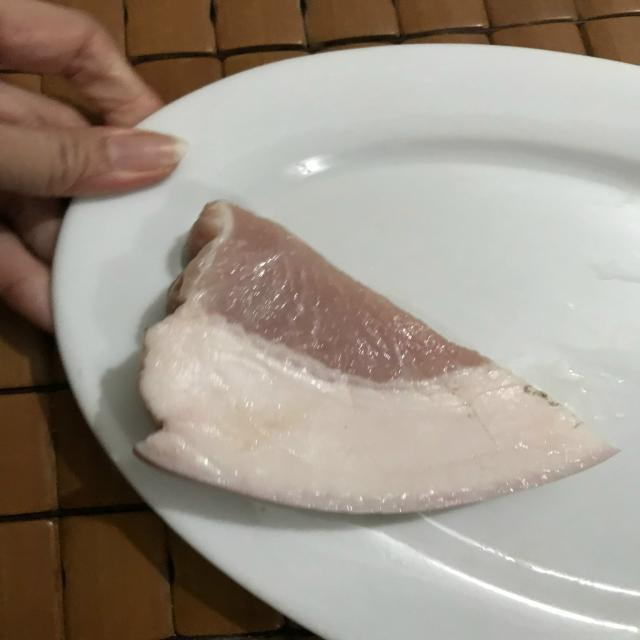chicken: (137, 198, 630, 522)
